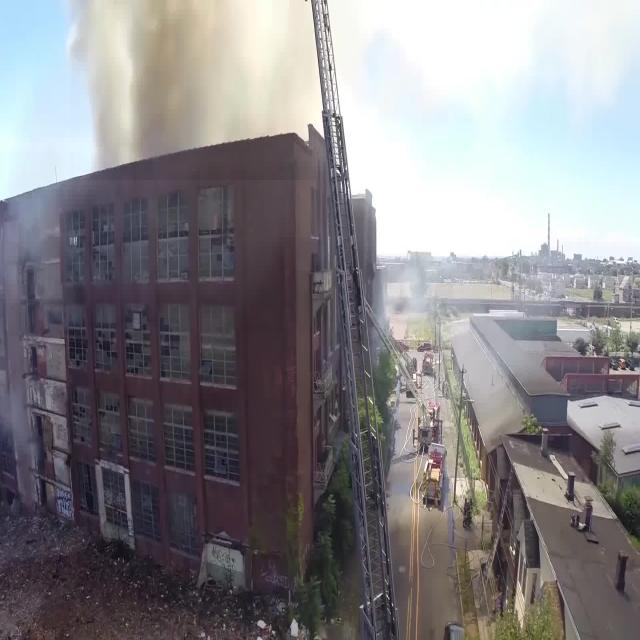Smoke: (70, 0, 316, 180)
